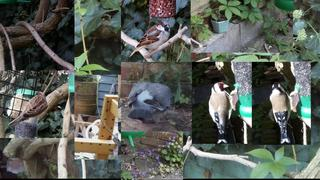goldfinch: (208, 82, 232, 144), (270, 82, 291, 144)
sparrow: (128, 20, 171, 58), (8, 90, 48, 129)
wood pigeon: (127, 82, 172, 125)
